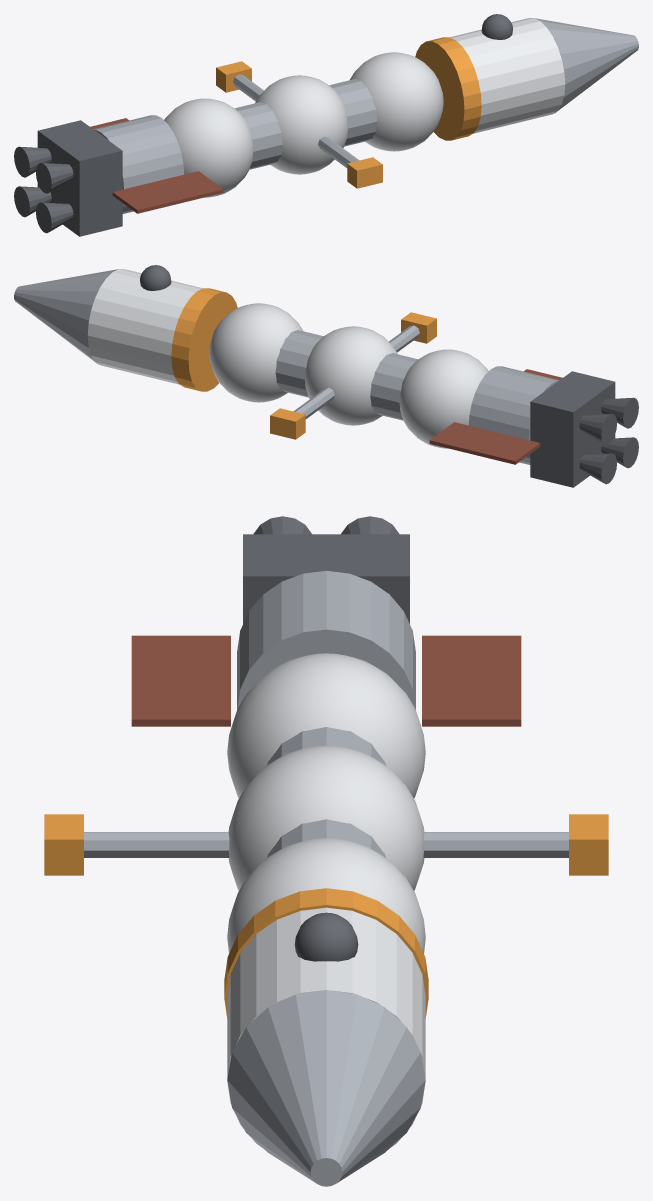
File: mizuho.glb
3 renders of one model, top to bottom at view 1: azimuth 30°, elevation 25°; view 2: azimuth 150°, elevation 25°; view 3: azimuth 270°, elevation 25°, orthographic. The views are drawn at different scales.
Visible parts, largest first — view 1: mizuho_fwd_hull, mizuho_engine, mizuho_tank_1, mizuho_tank_2, mizuho_tank_3, mizuho_collar, mizuho_aft_hull, mizuho_nose, mizuho_radiator_1, mizuho_tank_link_1, mizuho_tank_link_2, mizuho_boom_tip_1 (+8 smaller); view 2: mizuho_fwd_hull, mizuho_engine, mizuho_tank_1, mizuho_tank_2, mizuho_tank_3, mizuho_collar, mizuho_aft_hull, mizuho_nose, mizuho_radiator_0, mizuho_tank_link_1, mizuho_tank_link_2, mizuho_boom_tip_0 (+8 smaller); view 3: mizuho_nose, mizuho_tank_3, mizuho_tank_2, mizuho_aft_hull, mizuho_fwd_hull, mizuho_tank_1, mizuho_radiator_0, mizuho_radiator_1, mizuho_engine, mizuho_collar, mizuho_boom_0, mizuho_boom_1 (+5 smaller).
Part boxes in pixels (left/top/right/bottom): mizuho_fwd_hull: left=450, top=18, right=565, bottom=133; mizuho_engine: left=37, top=120, right=122, bottom=236; mizuho_tank_1: left=350, top=52, right=443, bottom=151; mizuho_tank_2: left=255, top=75, right=347, bottom=174; mizuho_tank_3: left=164, top=98, right=253, bottom=197; mizuho_collar: left=415, top=37, right=481, bottom=140; mizuho_aft_hull: left=94, top=115, right=184, bottom=213; mizuho_nose: left=535, top=18, right=638, bottom=113; mizuho_radiator_1: left=112, top=171, right=223, bottom=213; mizuho_tank_link_1: left=329, top=79, right=377, bottom=146; mizuho_tank_link_2: left=235, top=102, right=282, bottom=169; mizuho_boom_tip_1: left=347, top=157, right=382, bottom=188; mizuho_fwd_hull: left=87, top=269, right=202, bottom=384; mizuho_engine: left=530, top=371, right=615, bottom=487; mizuho_tank_1: left=209, top=303, right=302, bottom=402; mizuho_tank_2: left=305, top=326, right=397, bottom=425; mizuho_tank_3: left=399, top=349, right=488, bottom=448; mizuho_collar: left=171, top=288, right=237, bottom=391; mizuho_aft_hull: left=468, top=366, right=558, bottom=464; mizuho_nose: left=14, top=269, right=117, bottom=364; mizuho_radiator_0: left=429, top=422, right=540, bottom=464; mizuho_tank_link_1: left=275, top=330, right=323, bottom=397; mizuho_tank_link_2: left=370, top=353, right=417, bottom=420; mizuho_boom_tip_0: left=270, top=408, right=305, bottom=439; mizuho_nose: left=227, top=990, right=425, bottom=1186; mizuho_tank_3: left=227, top=653, right=425, bottom=798; mizuho_tank_2: left=228, top=745, right=424, bottom=890; mizuho_aft_hull: left=237, top=571, right=415, bottom=709; mizuho_fwd_hull: left=227, top=907, right=425, bottom=1147; mizuho_tank_1: left=227, top=838, right=425, bottom=953; mizuho_radiator_0: left=422, top=635, right=521, bottom=726; mizuho_radiator_1: left=131, top=635, right=230, bottom=726; mizuho_engine: left=243, top=534, right=409, bottom=623; mizuho_collar: left=224, top=888, right=428, bottom=1017; mizuho_boom_0: left=423, top=832, right=568, bottom=857; mizuho_boom_1: left=84, top=832, right=229, bottom=857.
Bounding box in the file's own units: 70 × 11.95 × 28.4.
